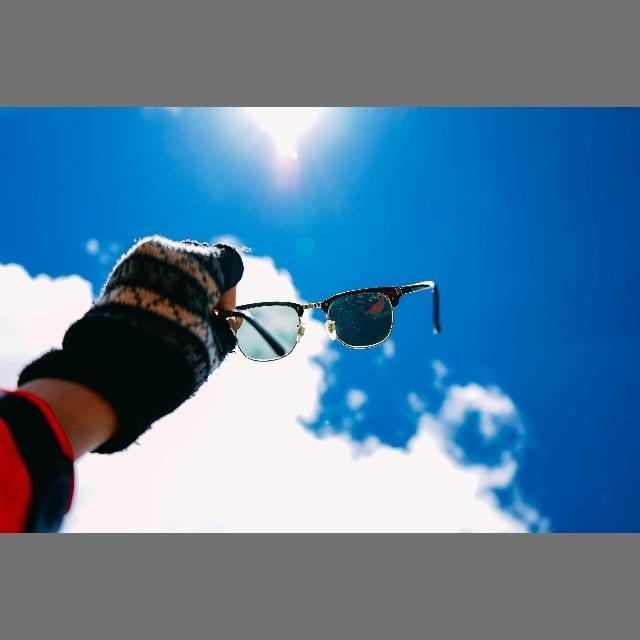Sunglasses: (216, 291, 452, 361)
